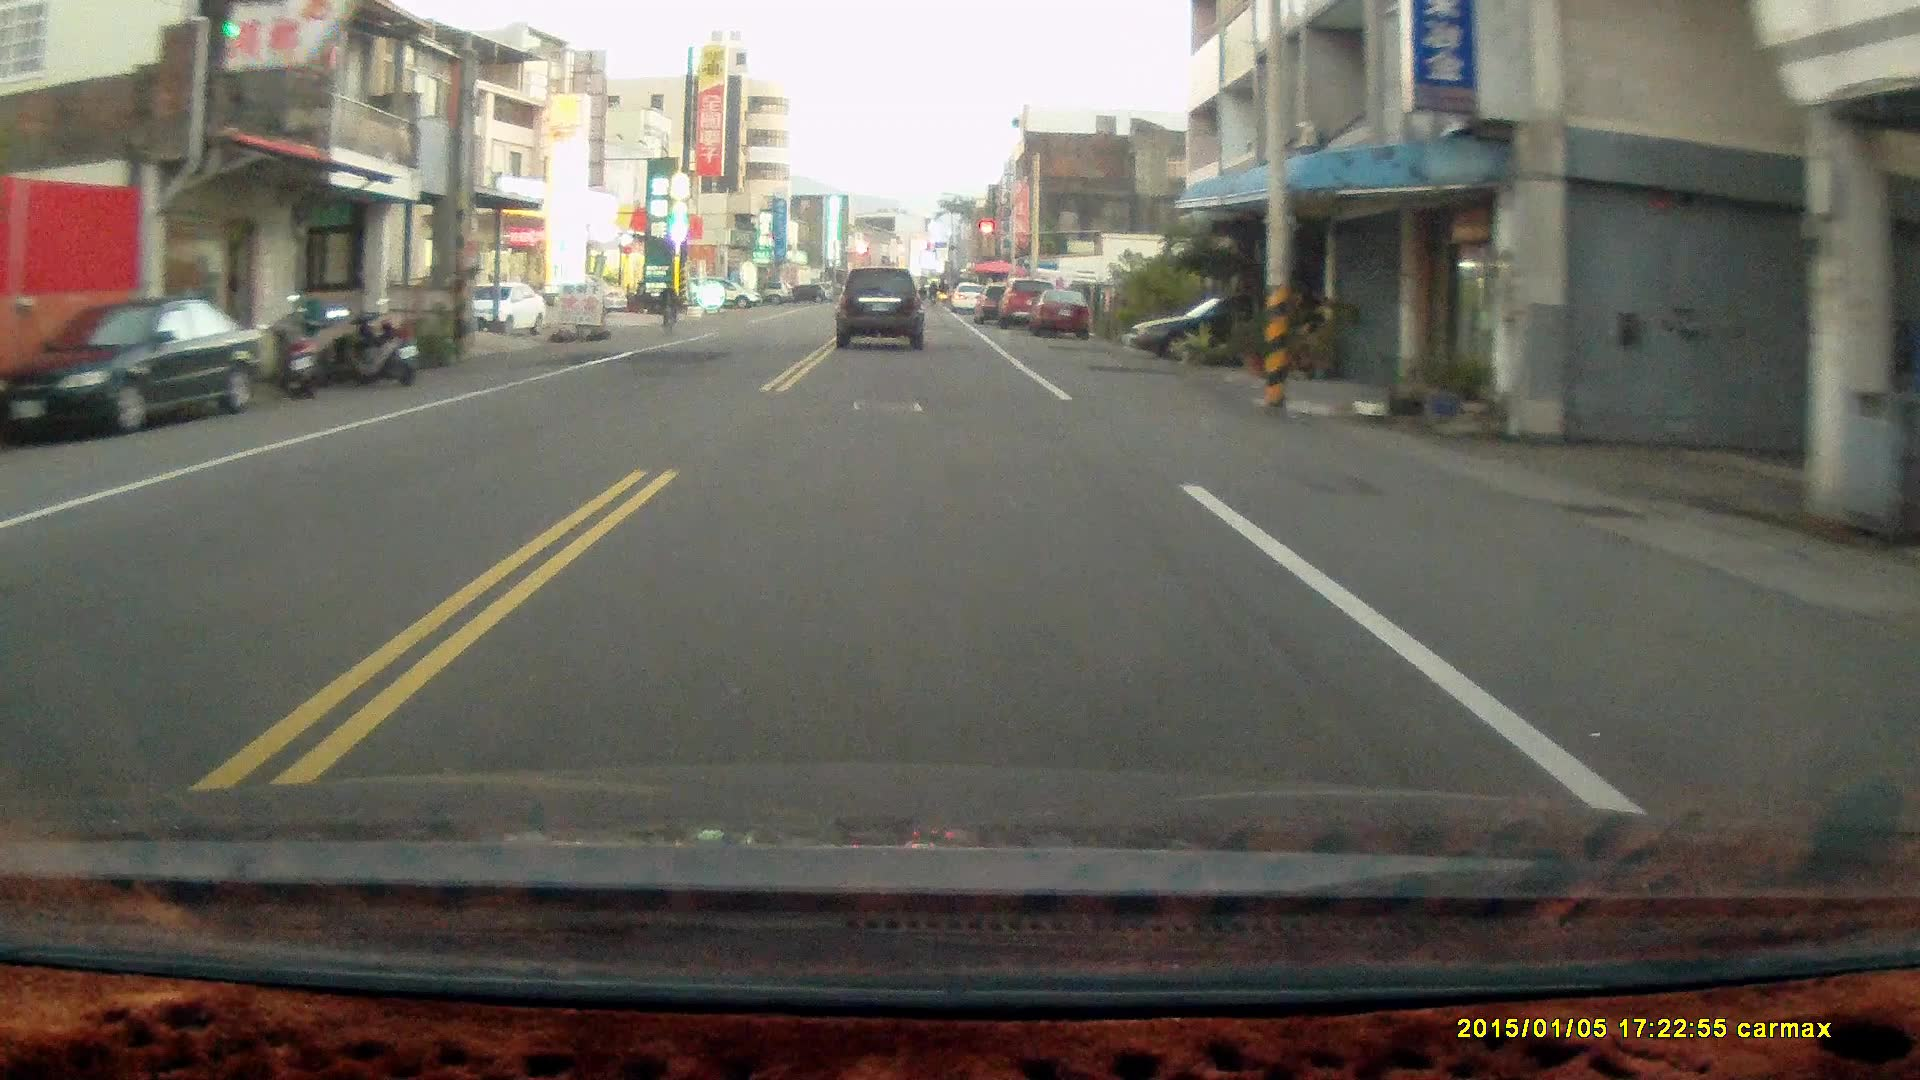rider: (654, 278, 679, 340)
vehicle: (9, 298, 267, 437), (1123, 295, 1322, 363), (836, 265, 927, 354), (456, 283, 548, 337)
